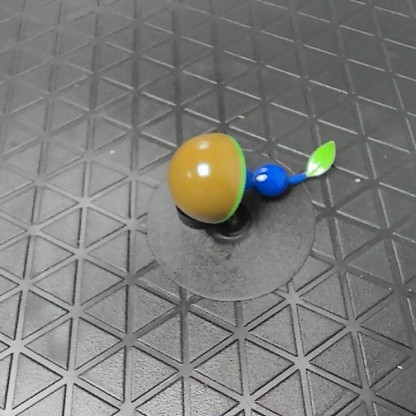leafairy: (167, 126, 336, 228)
